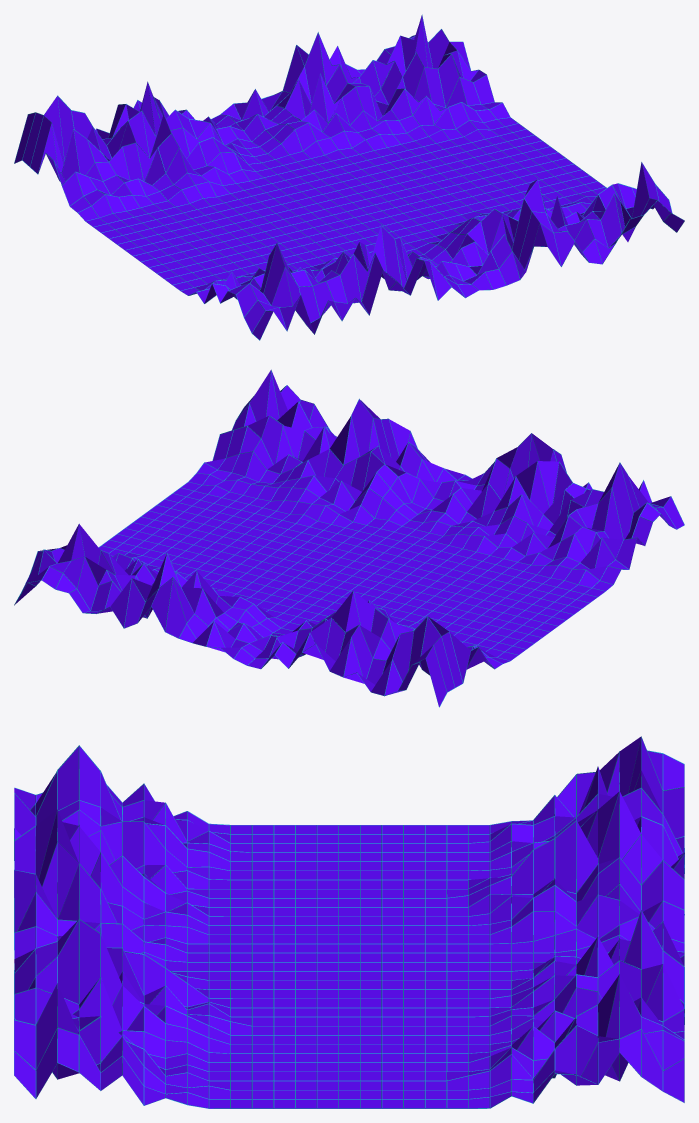
Rendered from mountain.glb.
3 views of the same model, one above another, from view 1: azimuth 30°, elevation 25°; view 2: azimuth 150°, elevation 25°; view 3: azimuth 270°, elevation 25° (orthographic). The views are drawn at different scales.
Visible parts, largest first — view 1: Plane.001_3, Plane_2; view 2: Plane.001_3, Plane_2; view 3: Plane.001_3, Plane_2.
Part boxes in pixels (box(x1,y1,x2,y2)): Plane.001_3: box(14, 16, 684, 339); Plane_2: box(14, 14, 684, 340); Plane.001_3: box(15, 370, 684, 706); Plane_2: box(14, 370, 684, 707); Plane.001_3: box(14, 736, 684, 1108); Plane_2: box(14, 736, 684, 1108).
Size of the model in its own units: 16.02 by 2.85 by 16.02.
